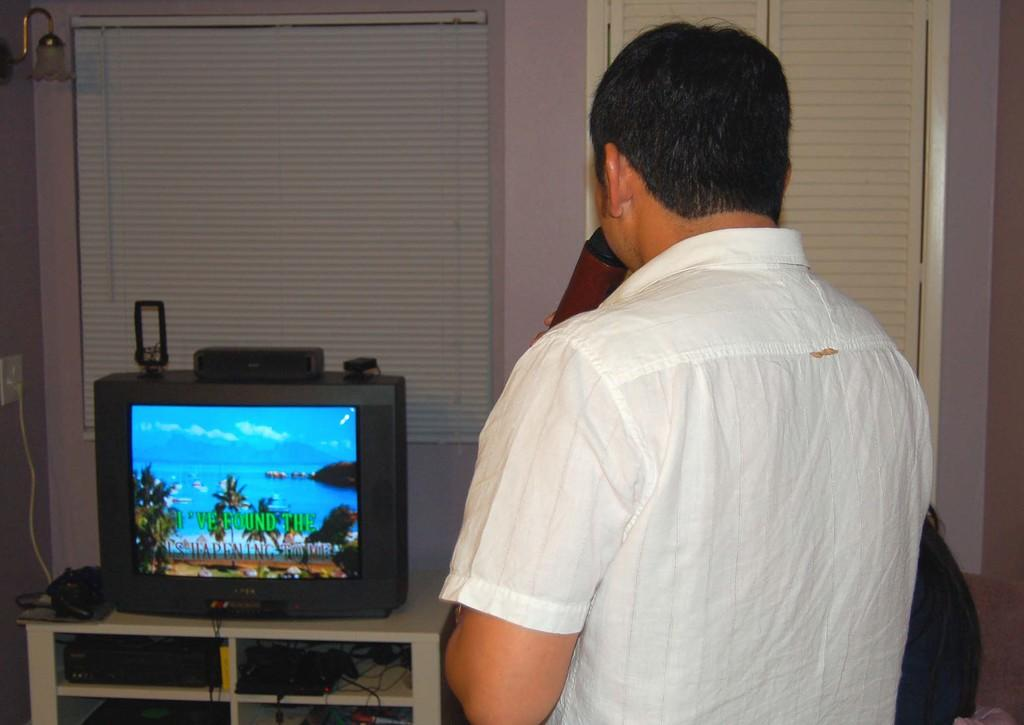Sem Máscara: (590, 157, 631, 270), (596, 165, 617, 261)
